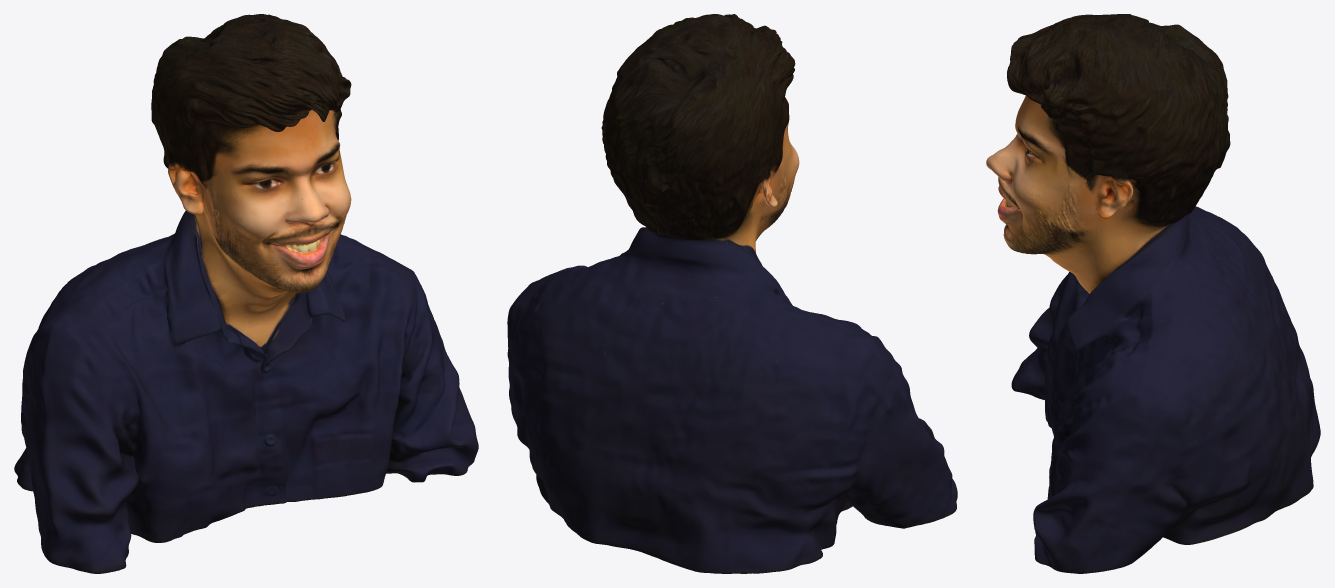
File: neham-portrait.glb
3 views of the same model, side by side, from view 1: azimuth 30°, elevation 25°; view 2: azimuth 150°, elevation 25°; view 3: azimuth 270°, elevation 25° (orthographic). The views are drawn at different scales.
Parts seen in each view (by area): view 1: Mesh_0; view 2: Mesh_0; view 3: Mesh_0.
Boxes of the visible parts, x1,y1,x2,y2 form: Mesh_0: (14, 14, 478, 573); Mesh_0: (507, 14, 957, 573); Mesh_0: (986, 14, 1320, 573).
Bounding box in the file's own units: 1.85 × 1.9 × 1.26.
Materials: 1 (1 with a texture image).
